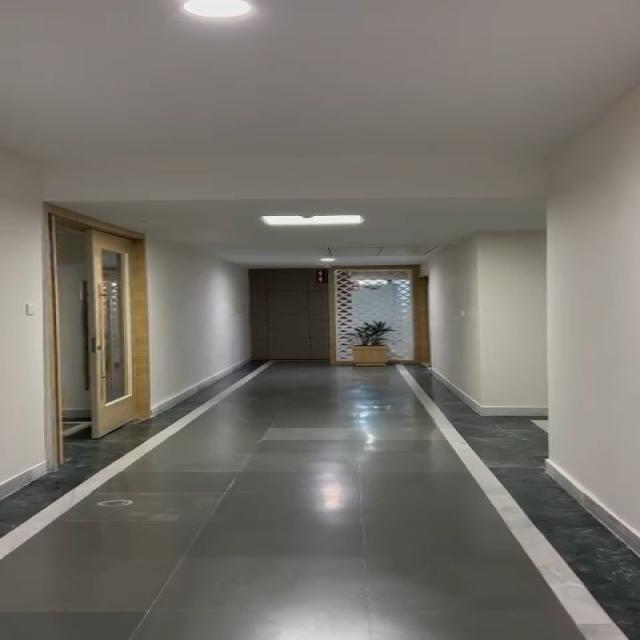door: (22, 186, 176, 442), (248, 264, 411, 370)
floor: (177, 370, 445, 640)
furniture: (342, 320, 394, 368)
wall: (424, 14, 628, 519)
